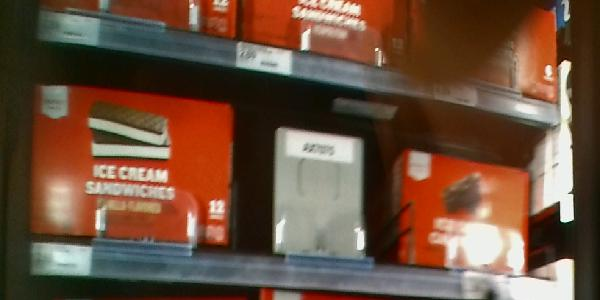icecream: (30, 82, 229, 249), (396, 145, 541, 275)
